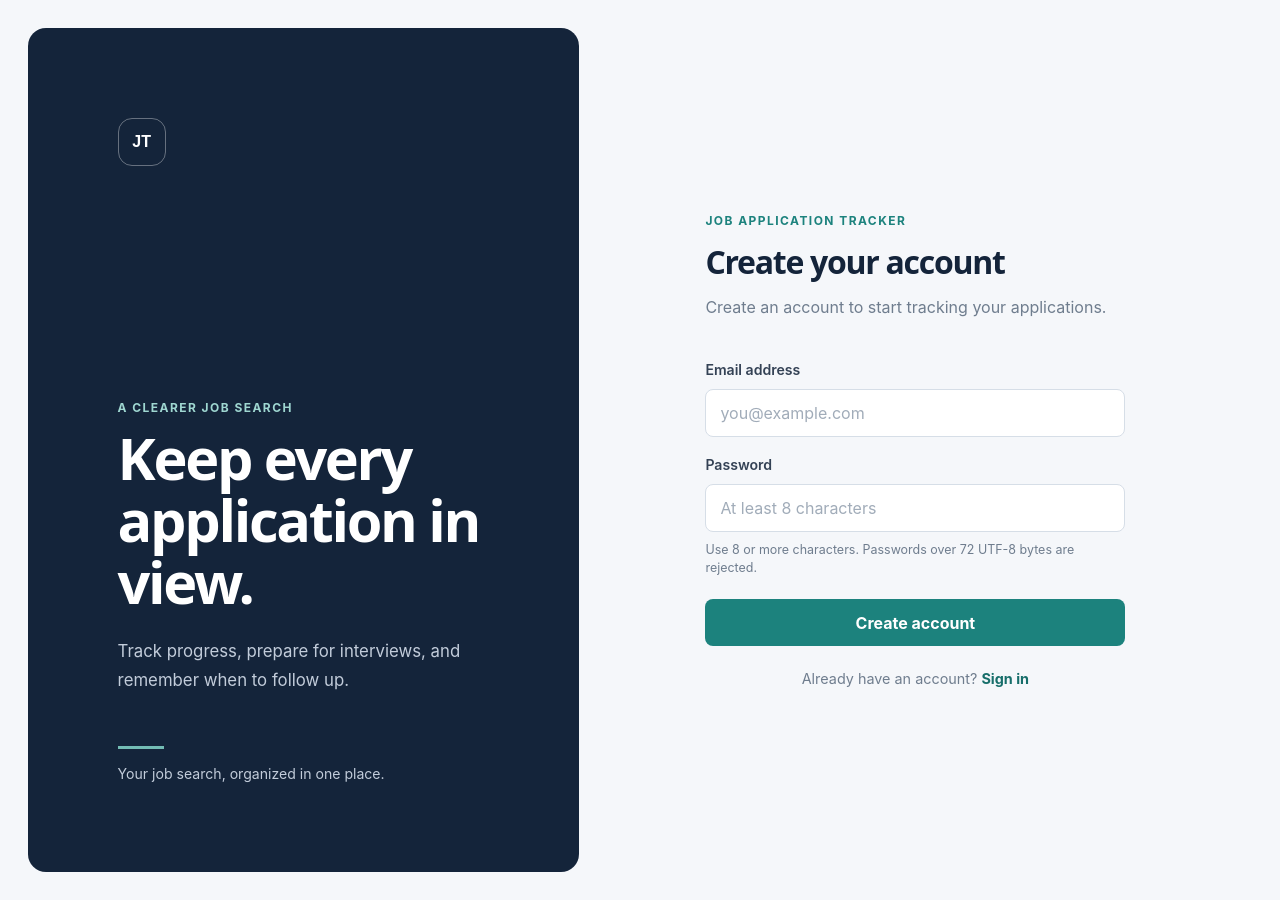
Test: authentication pages › shows backend validation errors on registration
Step 1. Type "person@example.com" into the field labelled "Email address" → (915, 413), box [705,389,1125,437]
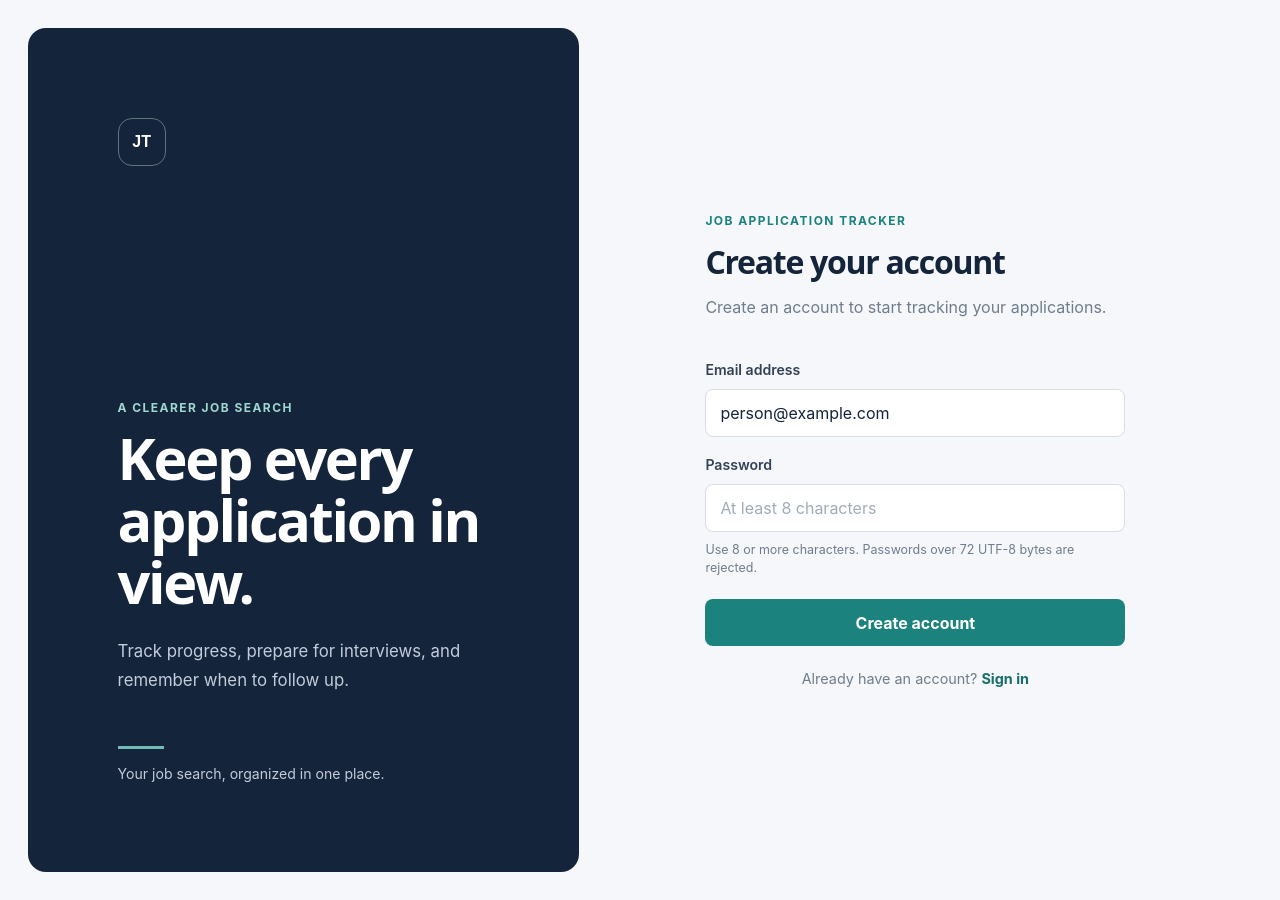
Step 2. Type "correct-password" into the password field labelled "Password" → (915, 508), box [705,484,1125,532]
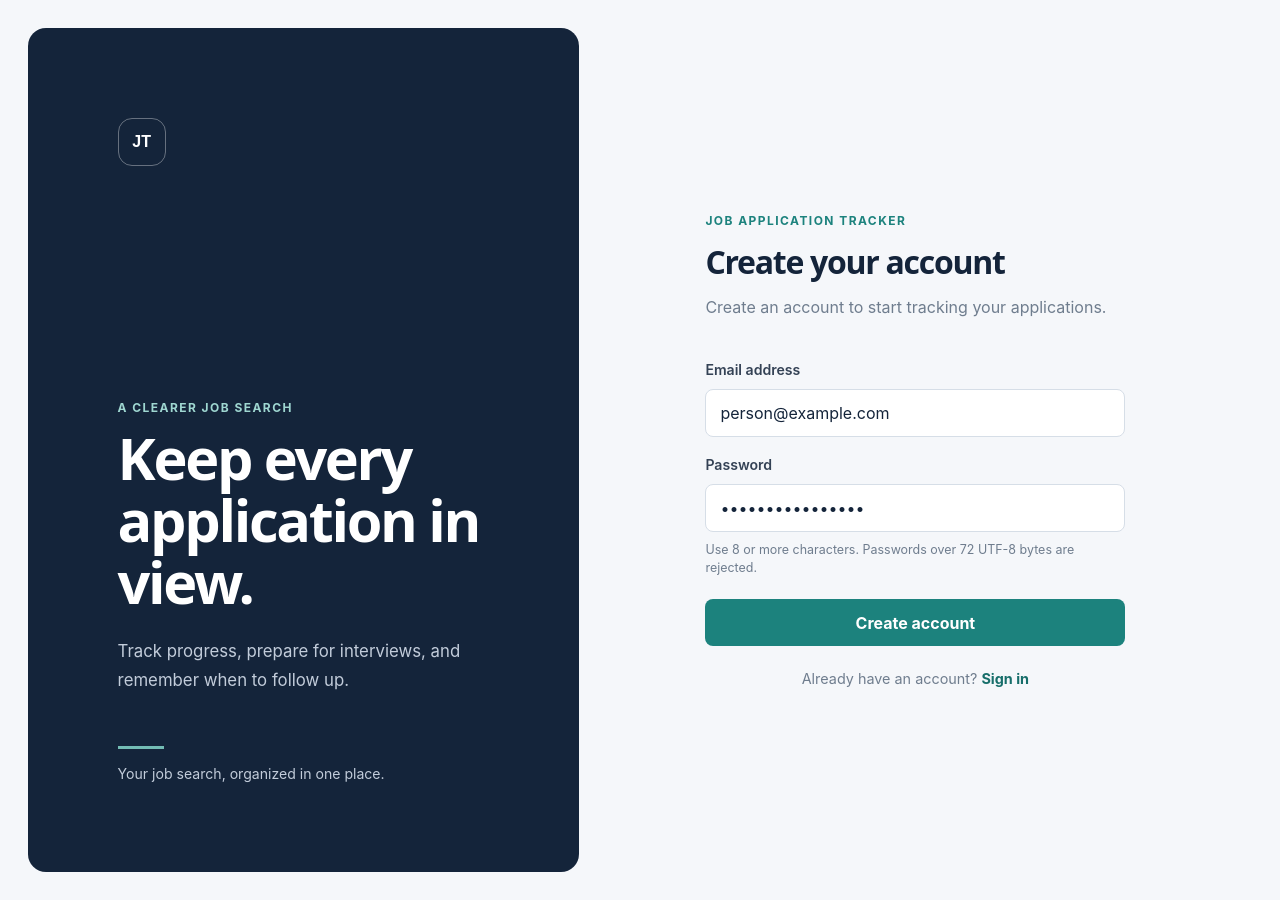
Step 3. Click the button "Create account" → click(915, 622), box [705,599,1125,646]
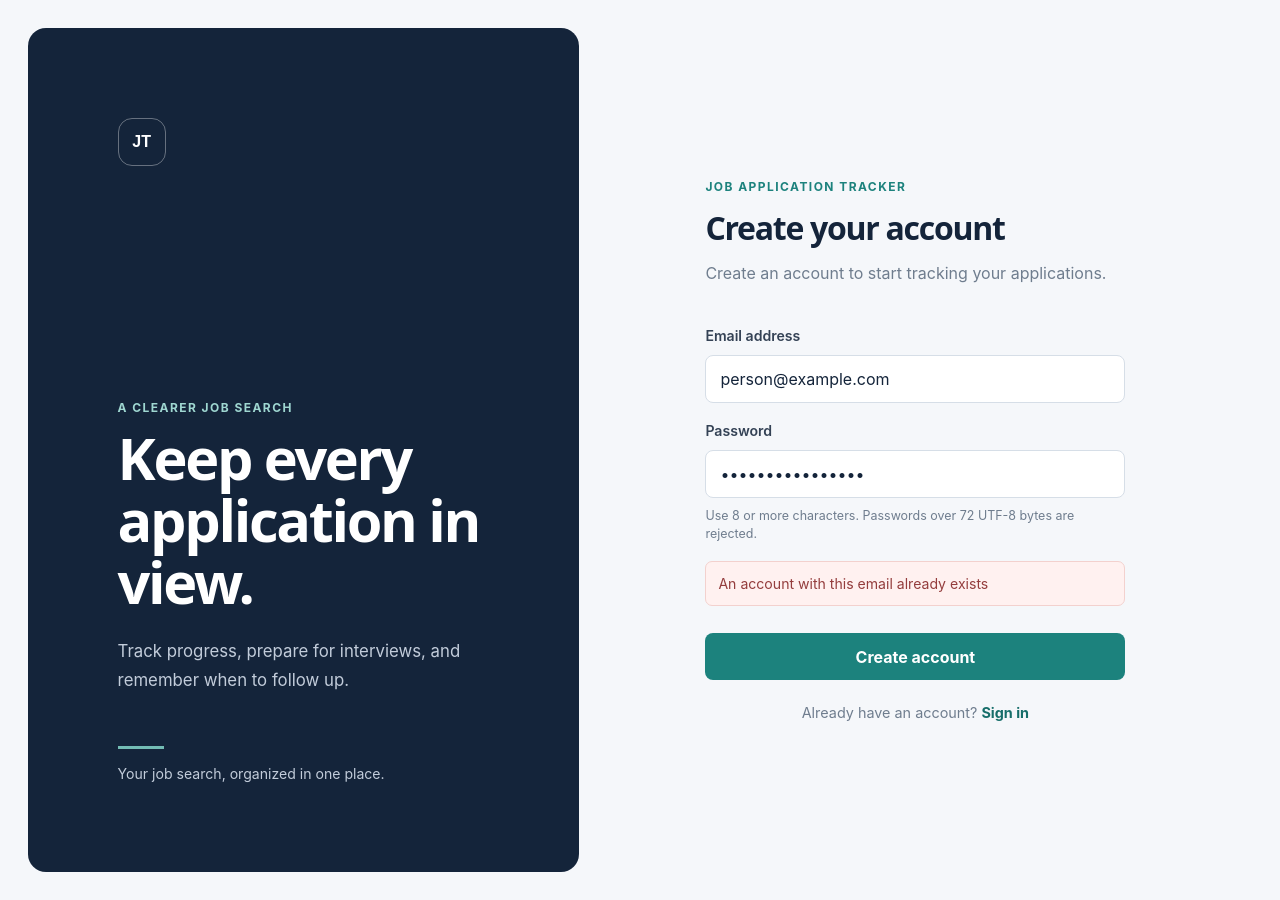
Check: the message reads "An account with this email already exists", box [718,575,988,592]
